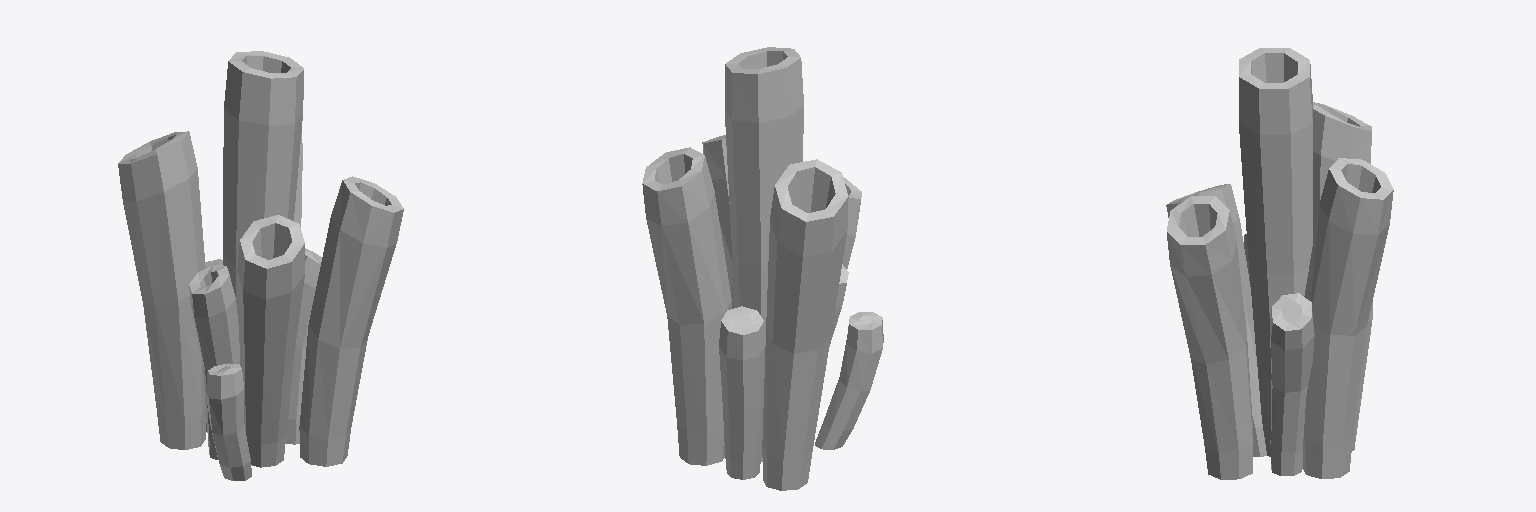
The model's file is Coral_C_01_LOD2.obj.
3 renders of one model, left to right at view 1: azimuth 30°, elevation 25°; view 2: azimuth 150°, elevation 25°; view 3: azimuth 270°, elevation 25°, orthographic.
Visible parts, largest first — view 1: Coral_C_01_LOD2_Cylinder.429; view 2: Coral_C_01_LOD2_Cylinder.429; view 3: Coral_C_01_LOD2_Cylinder.429.
Boxes of the visible parts, x1=… form: Coral_C_01_LOD2_Cylinder.429: x1=118, y1=51, x2=403, y2=480; Coral_C_01_LOD2_Cylinder.429: x1=642, y1=47, x2=883, y2=490; Coral_C_01_LOD2_Cylinder.429: x1=1166, y1=48, x2=1393, y2=479.
Size of the model in its own units: 3.58 by 6.55 by 3.43.